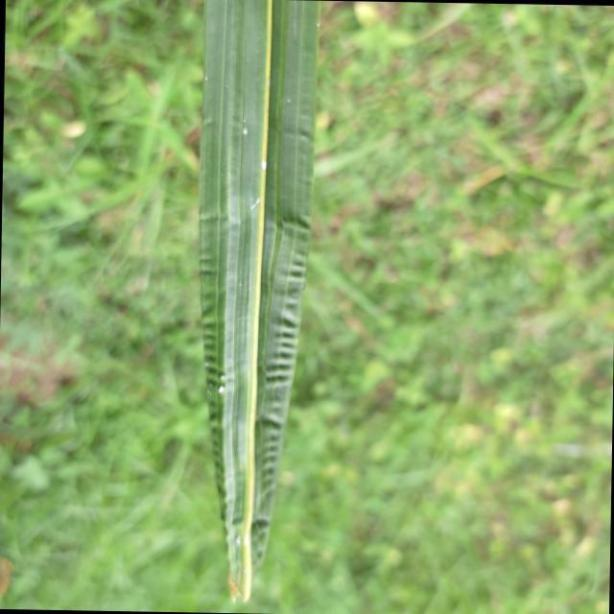Boron: (197, 0, 324, 609)
